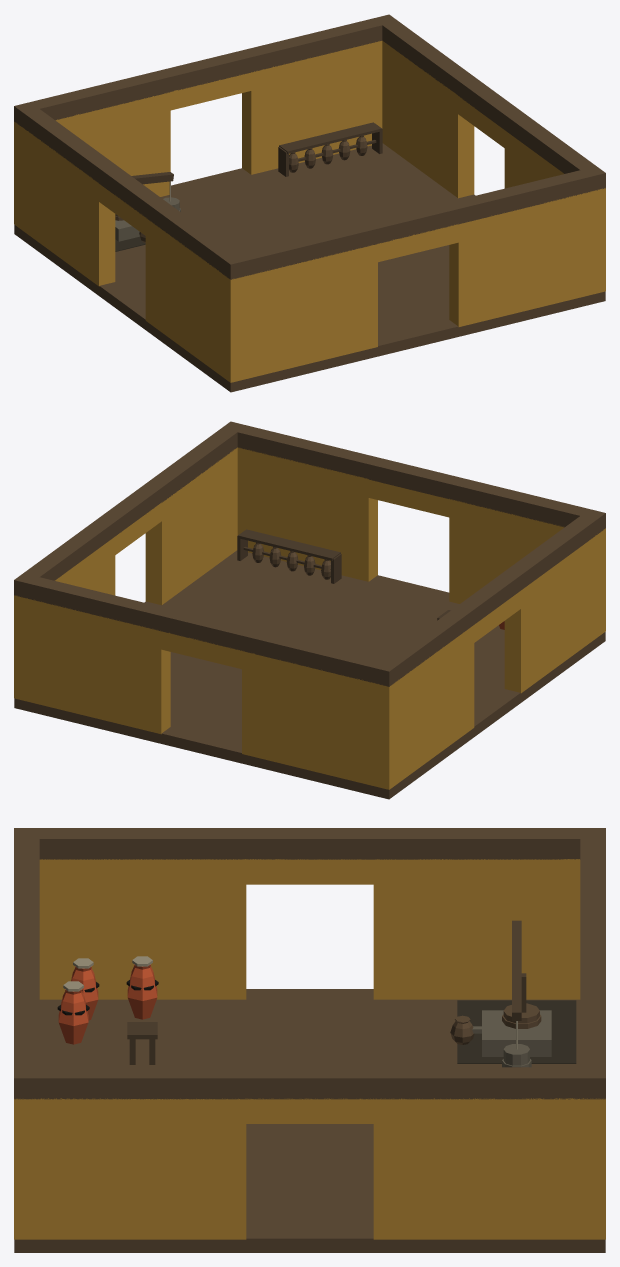
Rendered from BronzeOilPress.fbx.
The picture shows the model from 3 angles, top to bottom: view 1: azimuth 30°, elevation 25°; view 2: azimuth 150°, elevation 25°; view 3: azimuth 270°, elevation 25°; orthographic projection. The views are drawn at different scales.
Visible parts, largest first — view 1: BronzeOilPress; view 2: BronzeOilPress; view 3: BronzeOilPress.
Boxes of the visible parts, x1,y1,x2,y2 form: BronzeOilPress: [14, 14, 605, 392]; BronzeOilPress: [14, 421, 605, 799]; BronzeOilPress: [14, 828, 605, 1252].
Size of the model in its own units: 1202 by 392 by 1202.
Materials: 8 (8 with a texture image).
